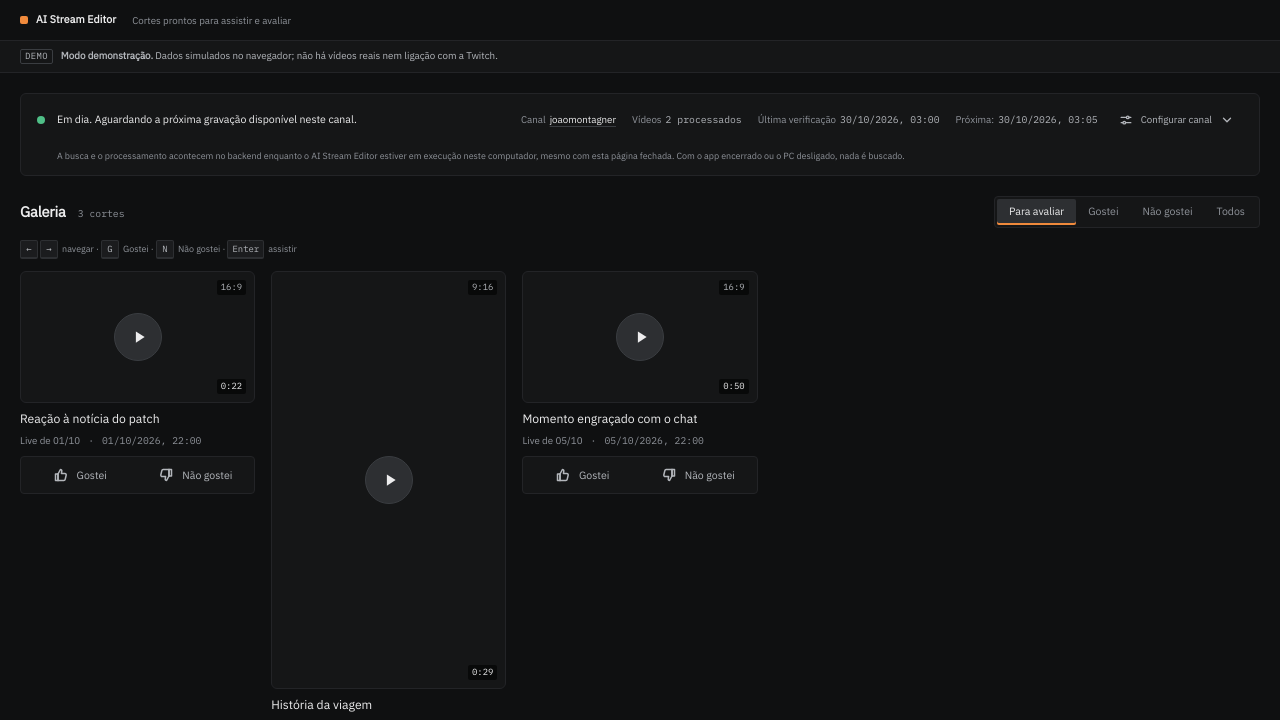
Scenario: Galeria: cortes e avaliação › a configuração troca o formato dos próximos cortes sem tocar nos prontos
The image size is (1280, 720).
Click the button "Configurar canal" at [1176, 120], box [1110,106,1243,134]
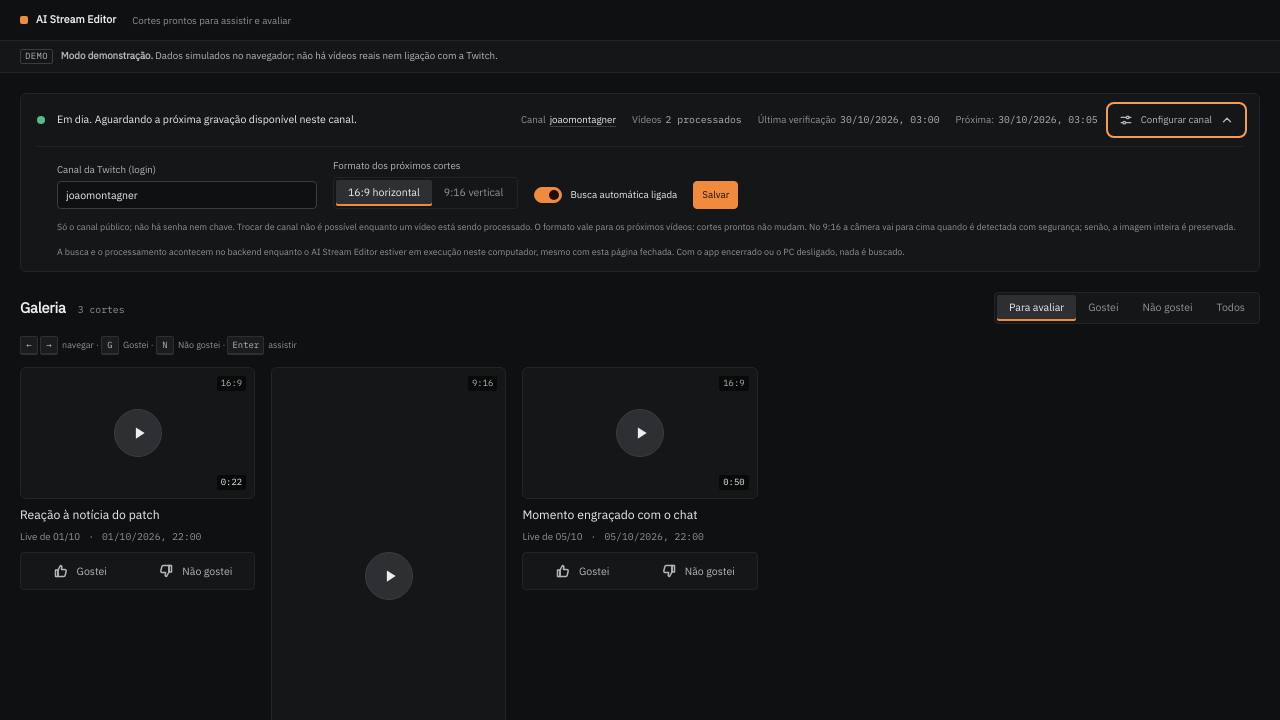
Click the radio button labelled "9:16 vertical" at [474, 193], box [432,180,515,206]
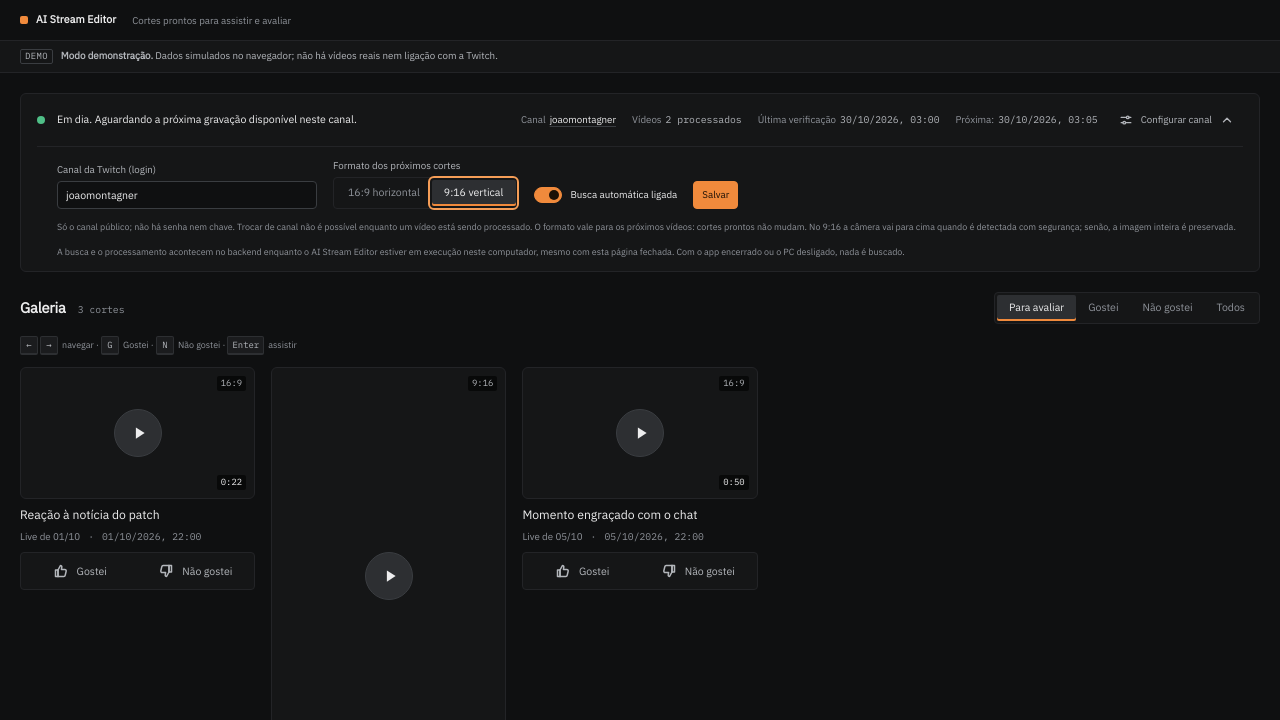
Click the button "Salvar" at [716, 195], box [693,181,738,209]
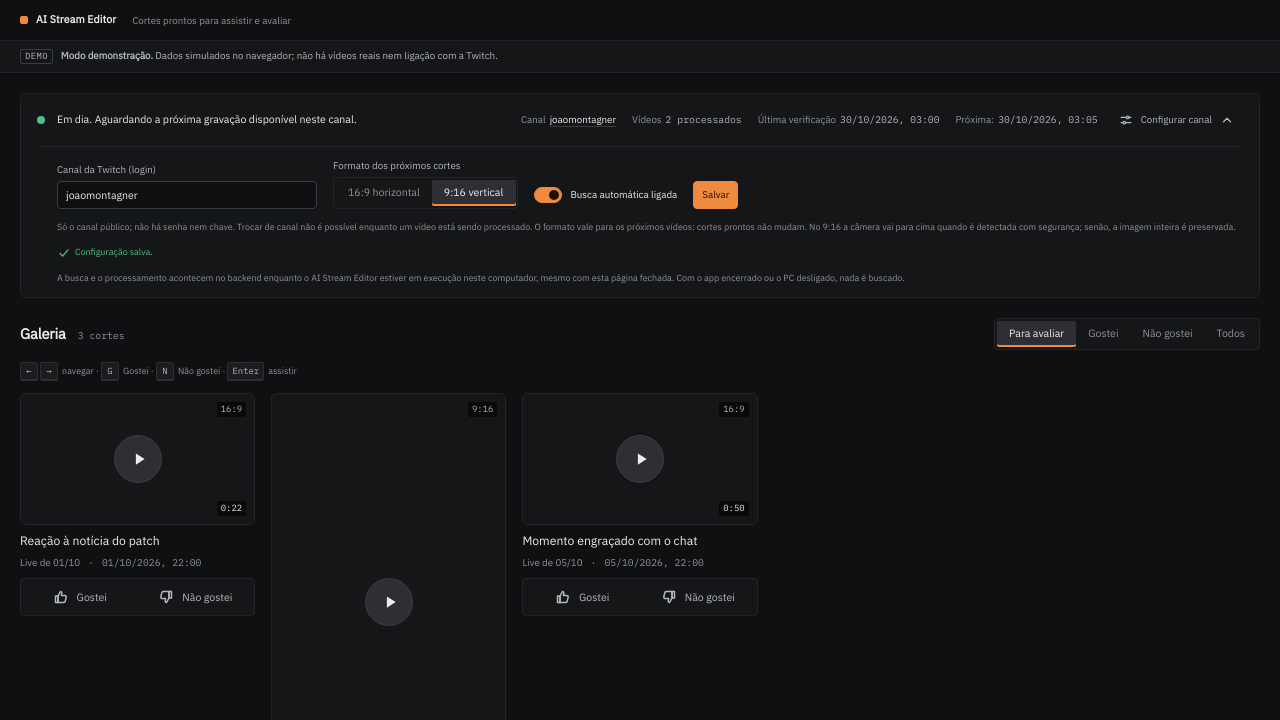
Expected: the text "Configuração salva." is shown, [57,246,153,260]
